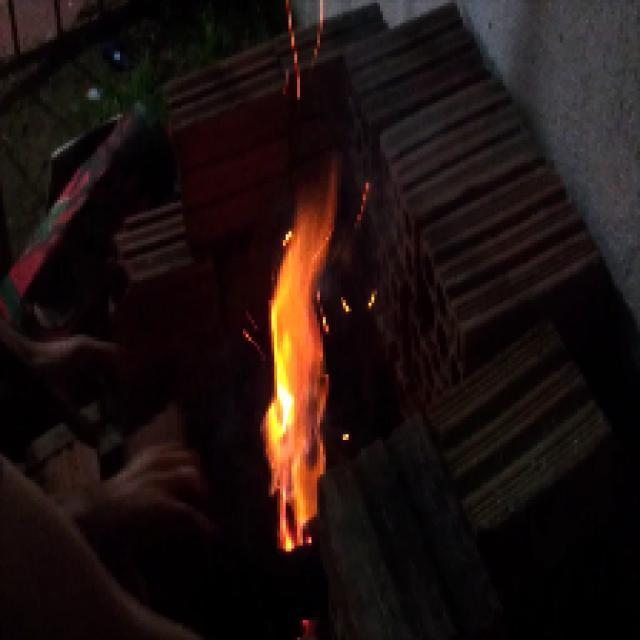Fire: (266, 171, 358, 543)
